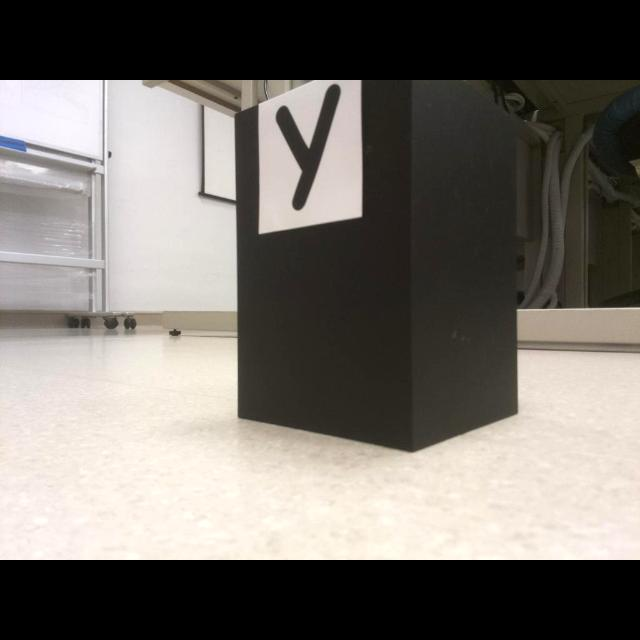Y: (276, 84, 340, 210)
